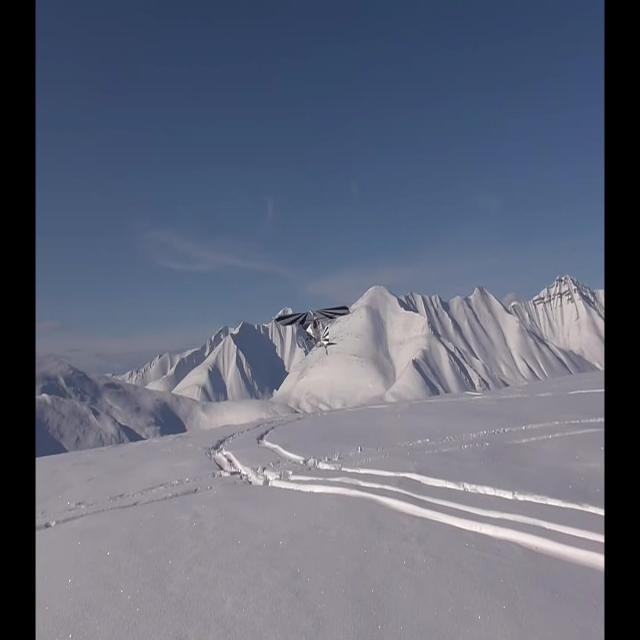iha: (311, 298, 316, 347)
